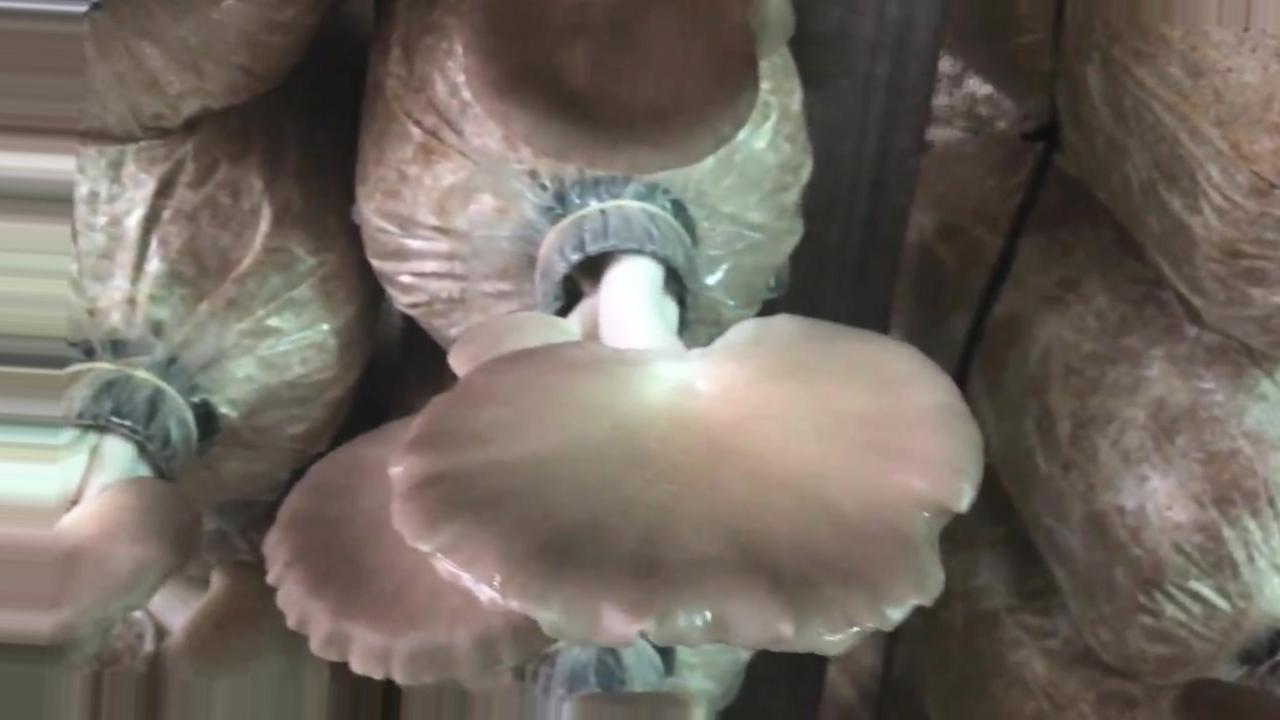nam: (388, 193, 986, 663), (264, 413, 549, 689), (1, 337, 206, 649), (460, 1, 767, 178)
